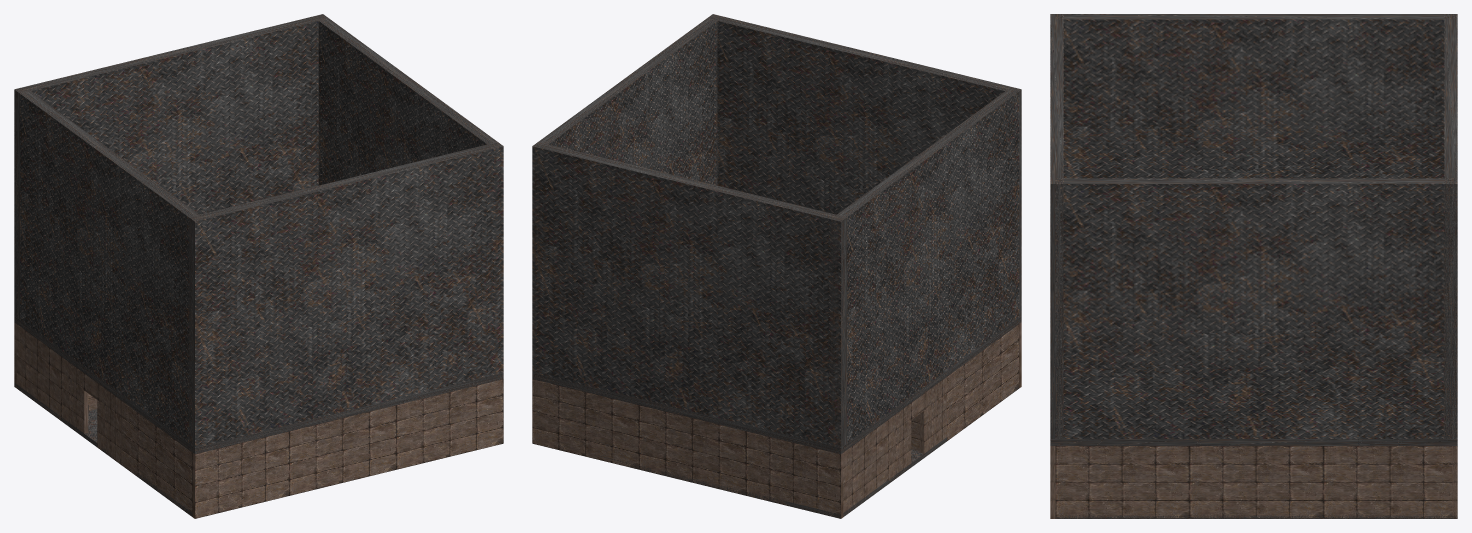
Rendered from Circus2.0.fbx.
3 views of the same model, side by side, from view 1: azimuth 30°, elevation 25°; view 2: azimuth 150°, elevation 25°; view 3: azimuth 270°, elevation 25° (orthographic). The views are drawn at different scales.
Parts seen in each view (by area): view 1: ceiling, cube_33, cube_54, cube_2, cube, cube_58, cube_63, cube_32; view 2: ceiling, cube_53, cube_52, cube_51, cube, cube_58, cube_63, cube_32; view 3: ceiling, cube_78, cube_56, cube_57.
Boxes of the visible parts, x1,y1,x2,y2 form: ceiling: (14,14,503,454); cube_33: (289,405,396,495); cube_54: (396,379,503,469); cube_2: (192,431,289,518); cube: (120,401,192,515); cube_58: (14,322,61,418); cube_63: (61,357,88,433); cube_32: (99,385,121,464); ceiling: (532,14,1021,454); cube_53: (532,379,639,469); cube_52: (639,405,746,495); cube_51: (746,431,843,517); cube: (947,324,1019,440); cube_58: (837,420,888,516); cube_63: (888,403,911,481); cube_32: (926,377,946,451); ceiling: (1050,14,1457,445); cube_78: (1055,446,1189,518); cube_56: (1189,446,1323,518); cube_57: (1323,446,1457,518).
Size of the model in its own units: 58.59 by 53.91 by 59.38.
Materials: 8 (8 with a texture image).
